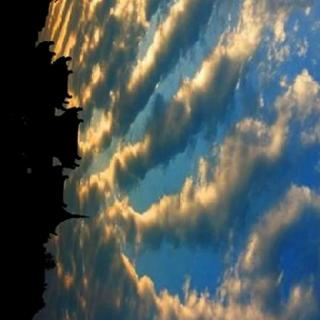Altocumulus: (52, 13, 320, 320)
